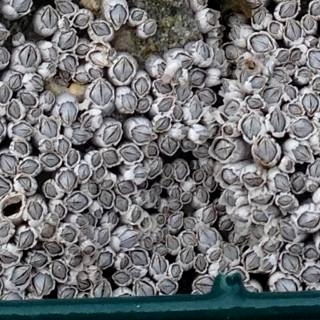Barnacle: (241, 98, 264, 139), (90, 79, 114, 107), (290, 116, 314, 139), (257, 138, 279, 163), (249, 34, 276, 54), (32, 273, 54, 297), (150, 246, 167, 276), (274, 274, 296, 297), (114, 58, 134, 83), (20, 43, 39, 68), (11, 265, 31, 288), (131, 125, 155, 144), (212, 140, 234, 160), (57, 171, 77, 193), (41, 7, 59, 30), (60, 101, 77, 125), (279, 221, 298, 242), (284, 20, 302, 42), (58, 31, 77, 51), (300, 211, 319, 231), (281, 252, 300, 272), (194, 277, 214, 296), (104, 123, 122, 144), (242, 251, 260, 272), (303, 93, 318, 118), (269, 111, 286, 133), (120, 146, 142, 163), (67, 194, 89, 211), (111, 4, 127, 27), (241, 168, 264, 184), (12, 122, 33, 139), (0, 155, 17, 176), (134, 281, 155, 298), (172, 53, 194, 69), (120, 230, 138, 249), (264, 87, 281, 107), (42, 118, 58, 139), (117, 179, 138, 195), (199, 228, 217, 246), (159, 278, 177, 296), (279, 0, 298, 17), (94, 281, 111, 300), (190, 98, 204, 121), (41, 153, 61, 169), (52, 260, 68, 280), (91, 22, 112, 37), (190, 70, 207, 88), (130, 250, 148, 267), (176, 84, 192, 103), (56, 0, 76, 15), (29, 202, 44, 222), (202, 207, 217, 227), (135, 77, 149, 98), (250, 192, 271, 206), (60, 225, 77, 242), (73, 128, 91, 144), (19, 231, 35, 249), (301, 267, 319, 283), (20, 160, 39, 175), (291, 176, 306, 195), (0, 250, 19, 265), (12, 0, 32, 14), (155, 116, 172, 132), (161, 138, 178, 154), (263, 237, 281, 252), (30, 252, 48, 267), (272, 174, 288, 190), (224, 43, 239, 60), (250, 74, 267, 89), (199, 90, 216, 105), (193, 145, 210, 160), (296, 143, 311, 160), (72, 14, 90, 28), (154, 81, 172, 95), (98, 190, 112, 208), (115, 195, 129, 213), (113, 272, 131, 286), (57, 137, 70, 156), (9, 100, 21, 120), (219, 170, 235, 185), (277, 194, 293, 209), (232, 229, 248, 244), (21, 93, 38, 107), (122, 95, 136, 112), (225, 99, 239, 116), (102, 151, 119, 165), (60, 288, 77, 302), (181, 249, 194, 267), (308, 49, 319, 70), (158, 98, 173, 113), (224, 245, 239, 260), (90, 51, 106, 65), (8, 74, 22, 90), (67, 150, 80, 167), (177, 161, 189, 179), (64, 56, 77, 72), (148, 160, 161, 176), (237, 207, 250, 223), (46, 242, 62, 255), (99, 252, 112, 268), (79, 164, 91, 181), (195, 255, 207, 272), (0, 85, 10, 105), (199, 43, 210, 61), (0, 221, 11, 239), (98, 229, 109, 247), (290, 48, 304, 62), (273, 70, 287, 84), (255, 209, 269, 223), (42, 225, 56, 239), (183, 232, 197, 246), (14, 142, 27, 157), (19, 176, 32, 191), (204, 178, 217, 193), (196, 190, 209, 205), (169, 214, 182, 229), (230, 26, 242, 42), (134, 166, 146, 182), (226, 191, 238, 207), (167, 235, 179, 251), (253, 12, 266, 26), (77, 44, 91, 57), (136, 99, 150, 112), (82, 114, 95, 128), (45, 184, 58, 198), (185, 216, 198, 230), (77, 277, 91, 290), (286, 105, 301, 117), (182, 139, 197, 151), (308, 162, 319, 178), (107, 209, 118, 225), (244, 0, 263, 9), (154, 64, 167, 77), (30, 77, 43, 90), (303, 16, 315, 30), (144, 21, 156, 35), (129, 209, 141, 223), (70, 255, 84, 267), (206, 12, 217, 27), (172, 69, 183, 84), (286, 86, 297, 101), (80, 229, 95, 240), (309, 0, 319, 16), (92, 151, 102, 167), (276, 51, 289, 63), (197, 130, 210, 142), (216, 201, 229, 213), (305, 249, 318, 261), (76, 74, 91, 84), (173, 105, 183, 120), (194, 170, 206, 182), (169, 200, 182, 211), (129, 267, 142, 278), (88, 181, 98, 195), (0, 47, 8, 64), (45, 91, 54, 106), (132, 10, 144, 21), (211, 249, 222, 261), (219, 221, 232, 231), (262, 261, 272, 274), (90, 68, 101, 79), (299, 70, 310, 81), (147, 146, 158, 157), (75, 216, 86, 227), (84, 244, 95, 255), (57, 76, 67, 88), (48, 48, 57, 61), (215, 52, 224, 65), (56, 205, 65, 218), (120, 257, 129, 270), (87, 213, 95, 227), (179, 125, 189, 136), (95, 168, 105, 179), (308, 186, 319, 196), (181, 194, 192, 204), (171, 267, 181, 278), (141, 218, 150, 230), (285, 161, 294, 172), (290, 245, 301, 254), (68, 246, 79, 255), (149, 190, 156, 204), (62, 18, 70, 30), (101, 180, 113, 188), (165, 163, 172, 176), (32, 109, 42, 118), (42, 140, 52, 149), (172, 188, 181, 198), (145, 237, 152, 249), (50, 215, 59, 224), (47, 64, 55, 74), (155, 232, 163, 242), (95, 270, 102, 281), (157, 216, 165, 225), (95, 208, 102, 218)
